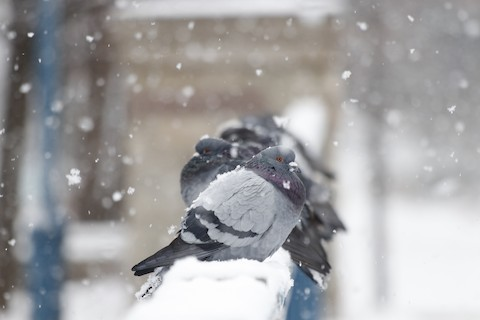pigeon: (129, 135, 310, 293)
